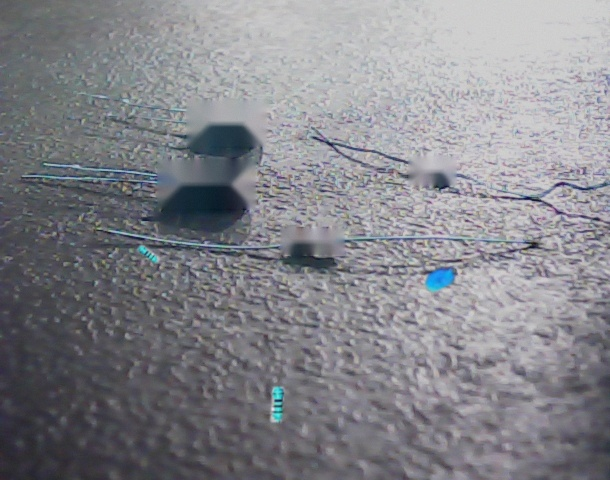capacitor: (425, 267, 455, 292)
resistor: (270, 386, 284, 423), (137, 245, 160, 264)
